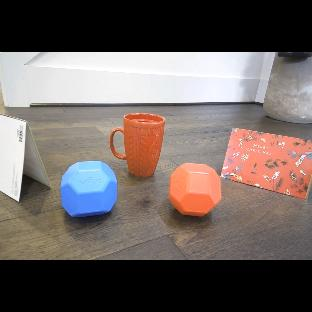V5_BLUE: (61, 160, 118, 219)
V5_RED: (169, 163, 222, 217)
